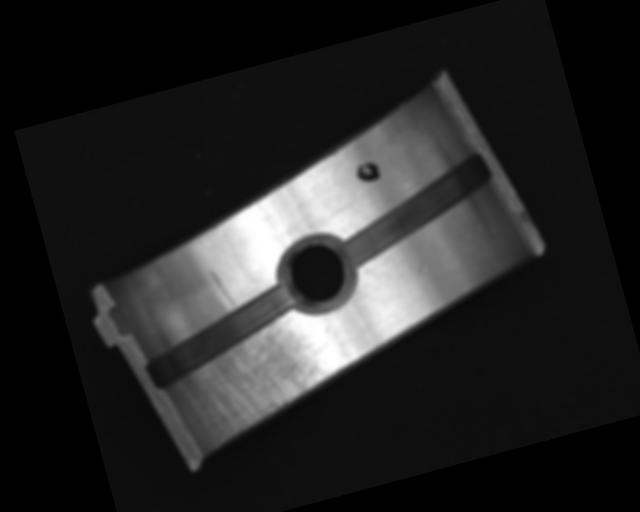blot: (353, 158, 383, 186)
bruise: (416, 263, 428, 276)
gap: (327, 151, 505, 270), (135, 282, 308, 391)
hole: (271, 227, 363, 320)
nick: (208, 265, 237, 315), (352, 283, 384, 312)
scratch: (167, 307, 349, 457)
